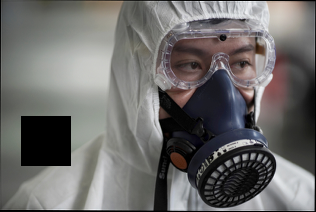with_mask: (158, 30, 272, 169)
